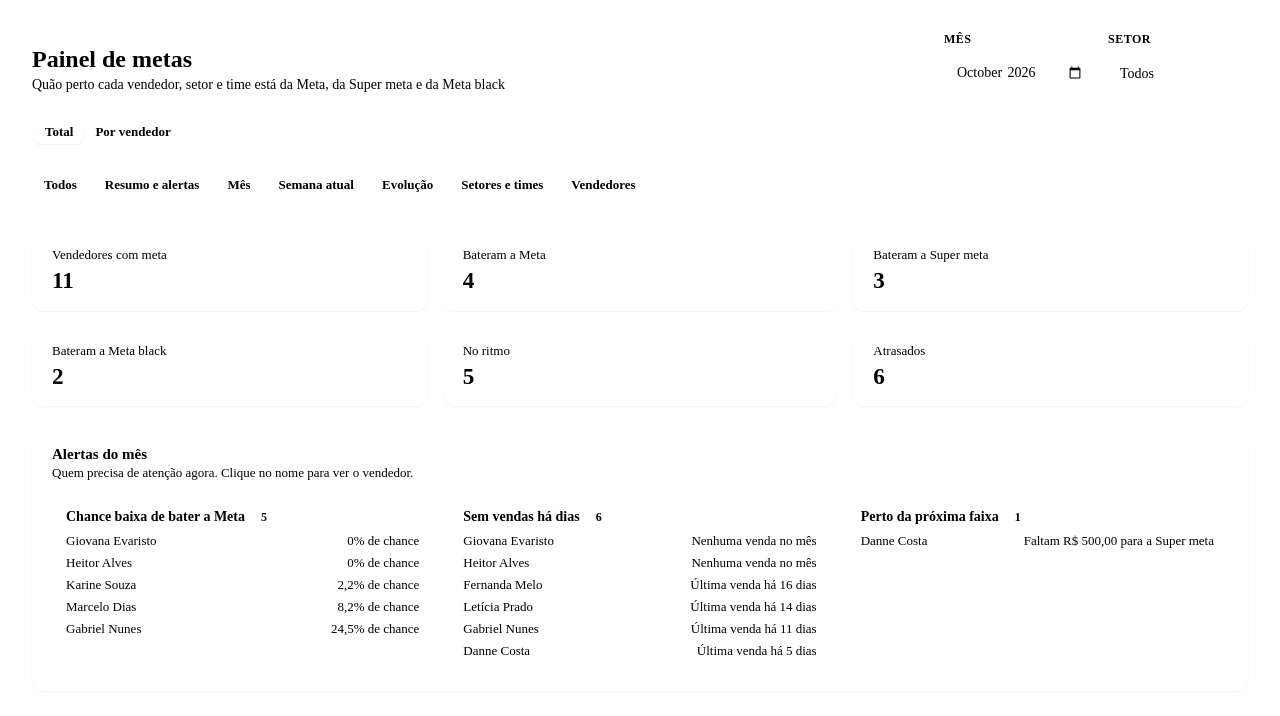
Test: Telas de metas com os dados falsos (quarta 21/10/2026) › Metas por vendedor › mês sem metas avisa para cadastrar
The image size is (1280, 716).
Expected: the element named "Resumo das metas" is shown, [32, 231, 1248, 406]
Replace the text in the field named "Mês do acompanhamento" with "2026-09" at (1020, 73), box [944, 53, 1096, 93]
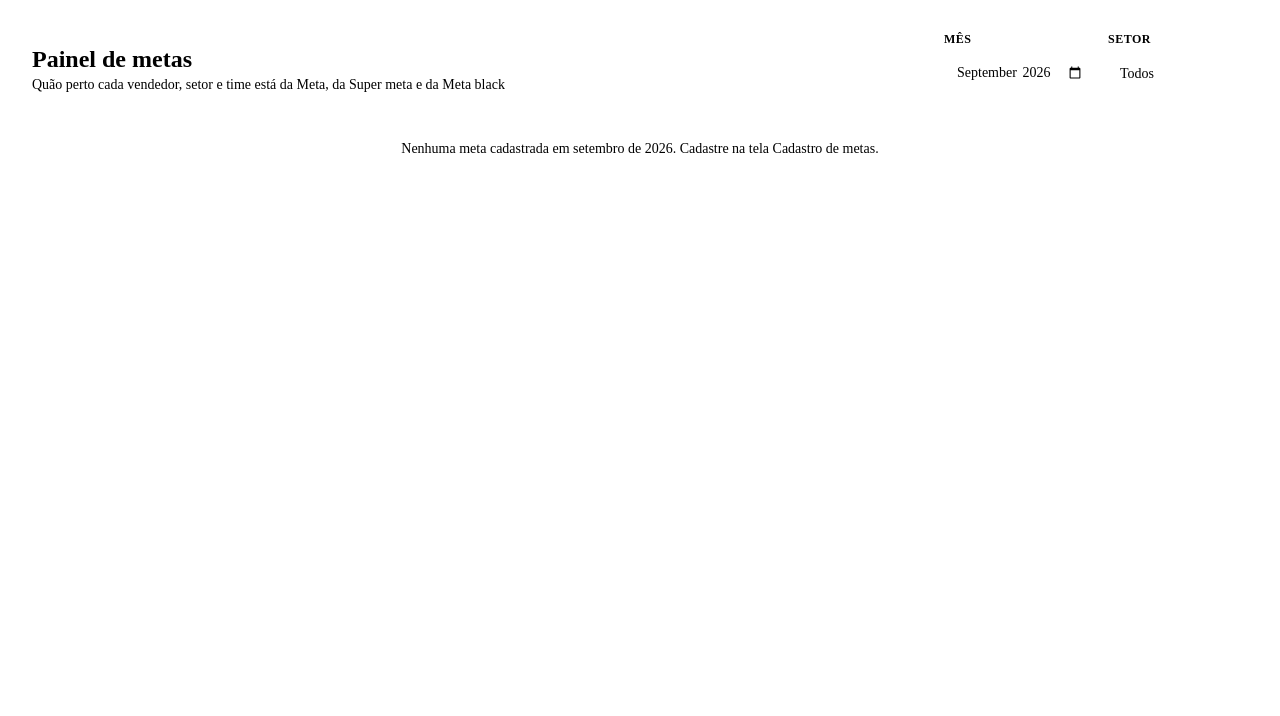
Result: the text "Nenhuma meta cadastrada em setembro de 2026" is shown at [401, 141, 879, 156]
